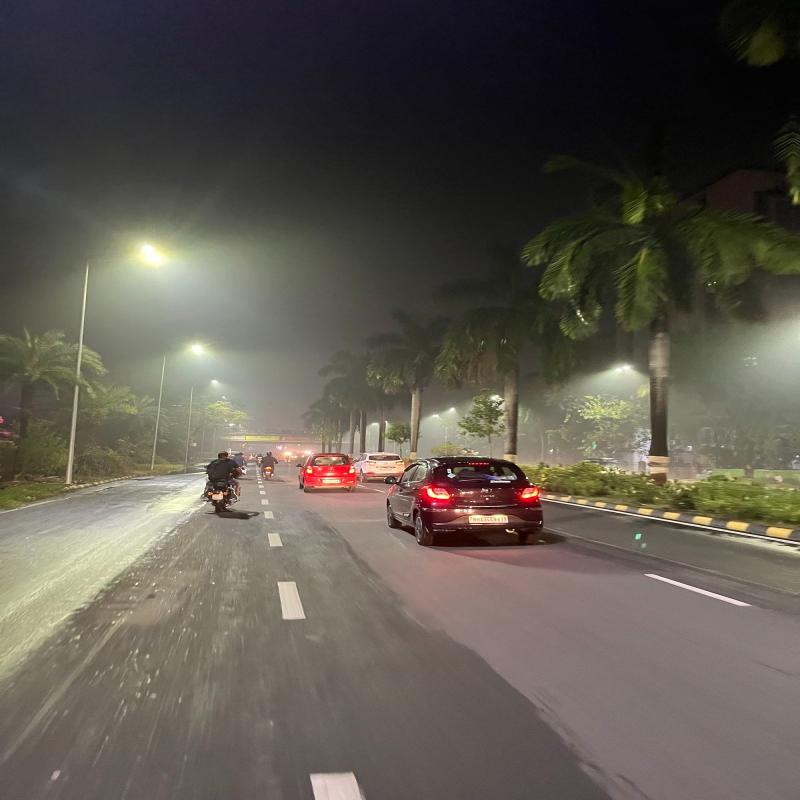license plate on a car: (470, 515, 507, 524), (378, 467, 396, 472), (323, 479, 339, 483)
